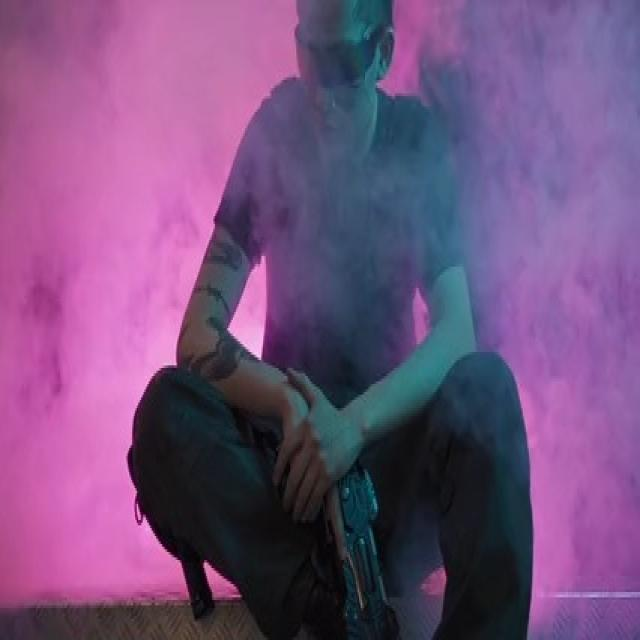Gun_Holder: (273, 401, 421, 640)
Person: (121, 0, 557, 640)
